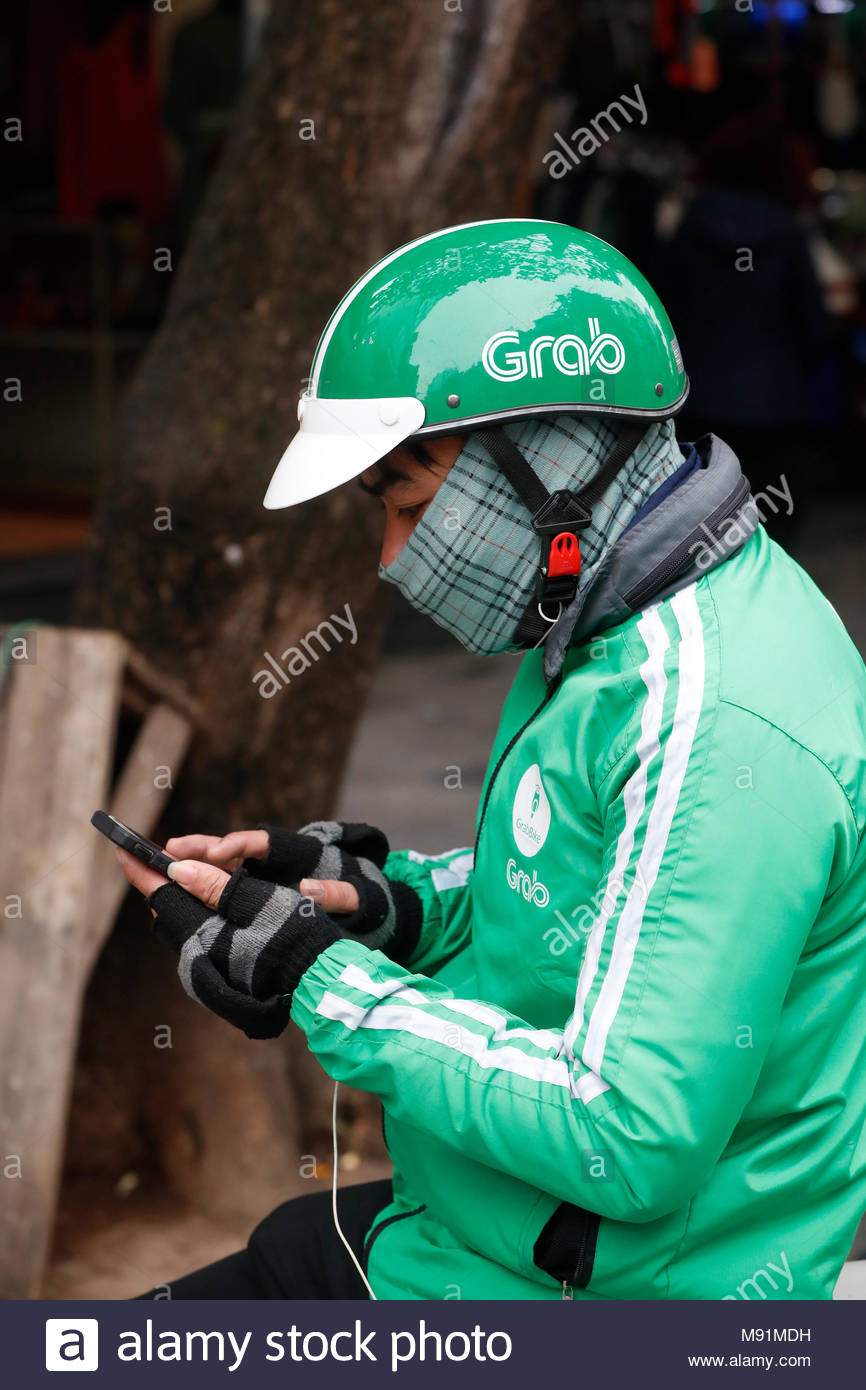su dung dien thoai: (84, 222, 693, 993)
